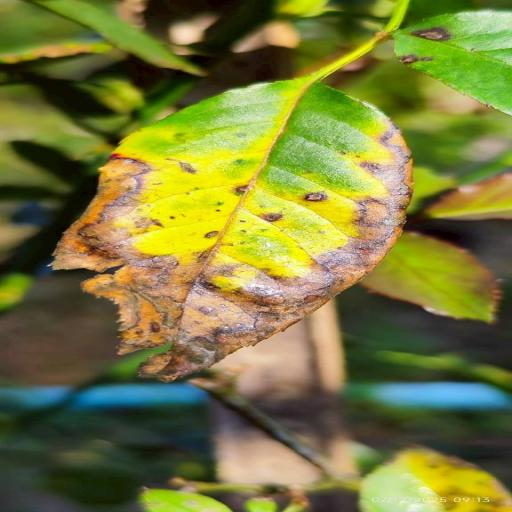thrip: (55, 71, 410, 381)
